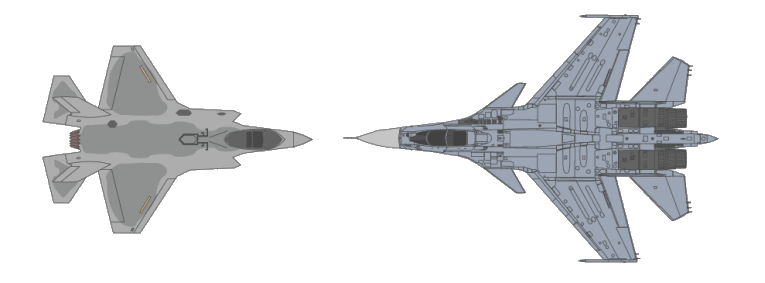F-35 Lightning: (29, 22, 332, 270)
Su-30: (345, 7, 744, 277)
